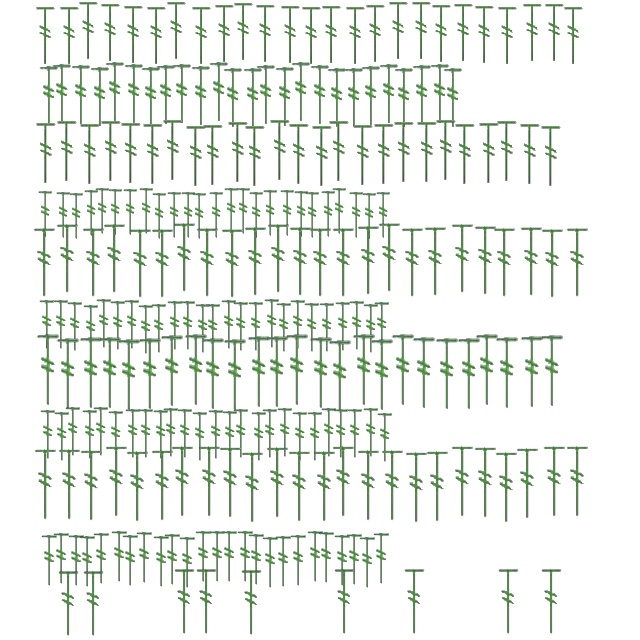fan: (32, 446, 60, 524), (56, 446, 84, 524), (124, 448, 152, 526), (264, 444, 292, 522), (286, 448, 314, 526), (424, 448, 452, 526), (472, 444, 500, 522), (242, 224, 270, 300), (376, 220, 404, 296), (422, 224, 450, 300), (518, 224, 546, 300), (78, 448, 106, 524), (196, 444, 224, 520), (330, 444, 358, 520), (514, 446, 542, 522), (564, 444, 592, 520), (54, 222, 82, 296), (80, 226, 108, 300), (194, 226, 222, 300), (330, 226, 358, 300), (472, 224, 500, 298), (564, 226, 592, 300), (218, 444, 244, 522), (312, 448, 338, 526), (128, 226, 154, 302), (150, 226, 176, 302), (172, 220, 198, 296), (220, 226, 246, 302), (288, 224, 314, 300), (540, 226, 566, 302), (104, 444, 130, 520), (150, 448, 176, 524), (170, 444, 196, 520), (240, 450, 266, 526), (356, 448, 382, 524), (380, 448, 406, 524), (404, 450, 430, 526), (450, 444, 476, 520), (494, 450, 520, 526), (542, 444, 568, 520), (32, 226, 58, 300), (102, 222, 128, 296), (266, 222, 292, 296), (308, 226, 334, 300), (356, 224, 382, 298), (400, 226, 426, 300), (450, 222, 476, 296), (492, 226, 518, 300), (78, 336, 104, 410), (116, 338, 142, 412), (200, 337, 226, 411), (222, 338, 248, 412), (246, 335, 272, 409), (264, 335, 290, 409), (284, 333, 310, 407), (308, 336, 334, 410), (390, 333, 416, 407), (434, 337, 460, 411), (456, 337, 482, 411), (474, 333, 500, 407), (494, 336, 520, 410), (56, 568, 82, 640), (172, 566, 198, 638), (194, 566, 220, 638), (332, 566, 358, 638), (402, 566, 428, 638), (496, 566, 522, 638), (36, 333, 60, 407), (56, 337, 80, 411), (98, 336, 122, 410), (138, 337, 162, 411), (160, 334, 184, 408), (184, 333, 208, 407), (328, 339, 352, 413), (352, 333, 376, 407), (370, 338, 394, 412), (412, 336, 436, 410), (520, 335, 544, 409), (540, 334, 564, 408), (82, 568, 106, 640), (540, 566, 564, 638), (240, 568, 264, 638), (34, 121, 58, 185), (55, 119, 79, 183), (78, 122, 102, 186), (99, 119, 123, 183), (119, 121, 143, 185), (141, 122, 165, 186), (161, 118, 185, 182), (184, 124, 208, 188), (201, 123, 225, 187), (226, 120, 250, 184), (243, 124, 267, 188), (268, 118, 292, 182), (287, 122, 311, 186), (310, 124, 334, 188), (327, 119, 351, 183), (351, 123, 375, 187), (372, 122, 396, 186), (392, 120, 416, 184), (415, 120, 439, 184), (434, 118, 458, 182), (453, 122, 477, 186), (477, 121, 501, 185), (495, 119, 519, 183), (518, 122, 542, 186), (539, 124, 563, 188), (122, 4, 146, 66), (320, 4, 344, 66), (410, 0, 434, 62), (452, 2, 476, 64), (34, 6, 58, 66), (58, 6, 82, 66), (190, 6, 214, 66), (232, 2, 256, 62), (254, 4, 278, 64), (300, 6, 324, 66), (344, 6, 368, 66), (364, 4, 388, 64), (430, 4, 454, 64), (496, 6, 520, 66), (562, 6, 586, 66), (78, 0, 100, 62), (100, 2, 122, 64), (166, 0, 188, 62), (280, 4, 302, 66), (388, 0, 410, 62), (474, 4, 496, 66), (522, 2, 544, 64), (544, 2, 566, 64), (38, 65, 60, 127), (70, 64, 92, 126), (104, 61, 126, 123), (140, 66, 162, 128), (190, 65, 212, 127), (208, 61, 230, 123), (222, 67, 244, 129), (242, 67, 264, 129), (274, 66, 296, 128), (290, 61, 312, 123), (326, 67, 348, 129), (360, 65, 382, 127), (378, 63, 400, 125), (442, 67, 464, 129), (146, 6, 168, 66), (214, 4, 236, 64), (52, 63, 72, 125), (90, 66, 110, 128), (124, 63, 144, 125), (156, 64, 176, 126), (172, 63, 192, 125), (256, 64, 276, 126), (310, 64, 330, 126), (344, 67, 364, 129), (394, 67, 414, 129), (412, 64, 432, 126), (430, 63, 450, 125), (40, 534, 58, 588), (52, 532, 70, 586), (67, 534, 85, 588), (92, 532, 110, 586), (110, 530, 128, 584), (121, 534, 139, 588), (178, 536, 196, 590), (194, 530, 212, 584), (208, 530, 226, 584), (220, 530, 238, 584), (236, 530, 254, 584), (261, 536, 279, 590), (289, 534, 307, 588), (306, 530, 324, 584), (333, 534, 351, 588), (358, 536, 376, 590), (372, 532, 390, 586), (82, 304, 100, 356), (166, 300, 184, 352), (318, 302, 336, 354), (348, 300, 366, 352), (64, 406, 82, 458), (92, 406, 110, 458), (124, 408, 142, 460), (176, 408, 194, 460), (232, 408, 250, 460), (332, 408, 350, 460), (346, 408, 364, 460), (376, 412, 394, 464), (78, 536, 96, 588), (135, 532, 153, 584), (152, 536, 170, 588), (163, 534, 181, 586), (247, 534, 265, 586), (274, 536, 292, 588), (317, 532, 335, 584), (345, 534, 363, 586), (38, 300, 56, 350), (52, 300, 70, 350), (66, 302, 84, 352), (150, 304, 168, 354), (194, 304, 212, 354), (204, 304, 222, 354), (220, 300, 238, 350), (232, 302, 250, 352), (334, 302, 352, 352), (362, 304, 380, 354), (152, 410, 170, 460), (162, 408, 180, 458), (250, 412, 268, 462), (276, 408, 294, 458), (306, 412, 324, 462), (320, 408, 338, 458), (362, 408, 380, 458), (96, 298, 112, 350), (110, 300, 126, 352), (138, 304, 154, 356), (180, 300, 196, 352), (264, 298, 280, 350), (276, 302, 292, 354), (304, 302, 320, 354), (108, 410, 124, 462), (138, 408, 154, 460), (222, 410, 238, 462), (262, 408, 278, 460), (124, 300, 140, 350), (248, 302, 264, 352), (290, 300, 306, 350), (374, 302, 390, 352), (40, 410, 56, 460), (54, 412, 70, 462), (82, 410, 98, 460), (192, 412, 208, 462), (208, 410, 224, 460), (292, 412, 308, 462), (37, 190, 53, 238), (55, 191, 71, 239), (68, 192, 84, 240), (83, 189, 99, 237), (94, 187, 110, 235), (107, 188, 123, 236), (122, 188, 138, 236), (138, 187, 154, 235), (151, 192, 167, 240), (166, 191, 182, 239), (180, 191, 196, 239), (191, 192, 207, 240), (208, 191, 224, 239), (223, 187, 239, 235), (235, 187, 251, 235), (248, 191, 264, 239), (262, 189, 278, 237), (279, 189, 295, 237), (293, 190, 309, 238), (304, 191, 320, 239), (320, 190, 336, 238), (331, 187, 347, 235), (348, 191, 364, 239), (361, 192, 377, 240), (375, 191, 391, 239)
